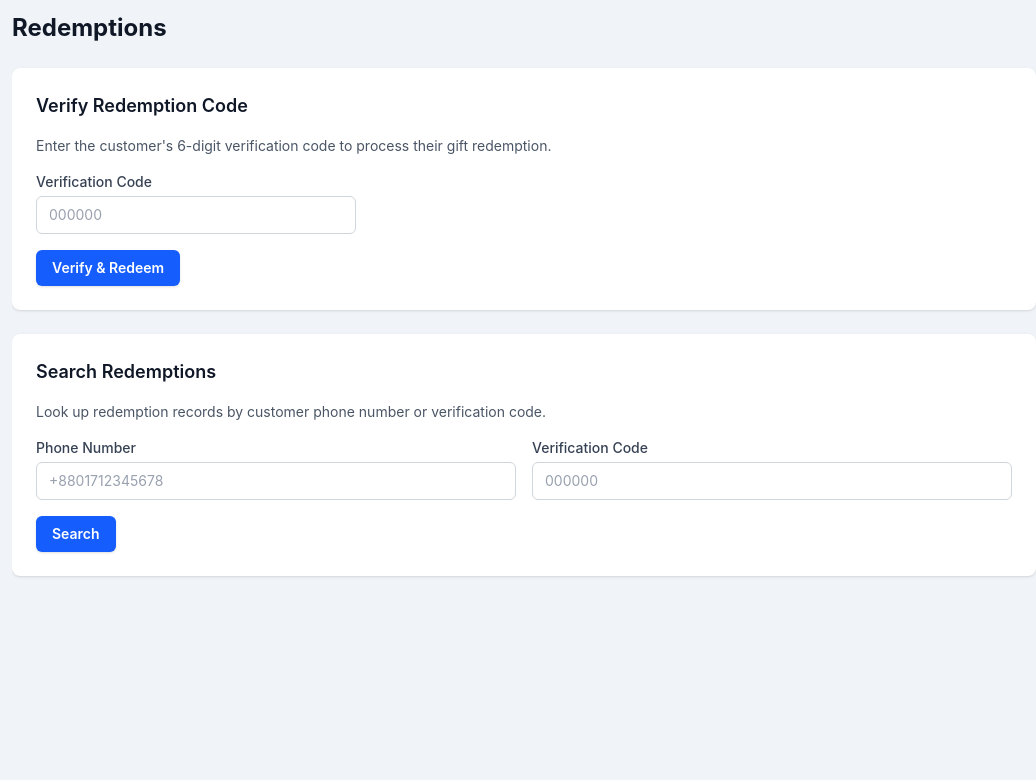
Test: RedemptionsPage › Verification Form › shows error for non-6-digit code
The width and height of the screenshot is (1036, 780).
Type "123" into the field labelled "Verification Code" below "Verify Redemption Code".
click(196, 215); type("123")  # box [36, 196, 356, 234]
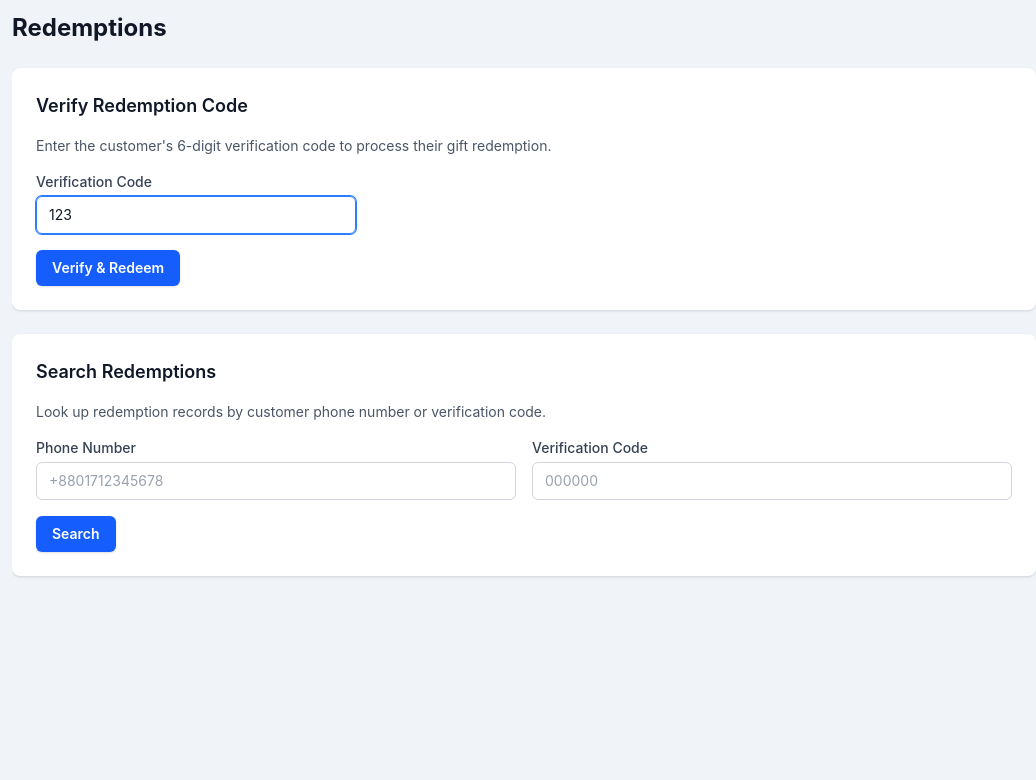
Click the button "Verify & Redeem".
click(108, 268)  # box [36, 250, 180, 286]
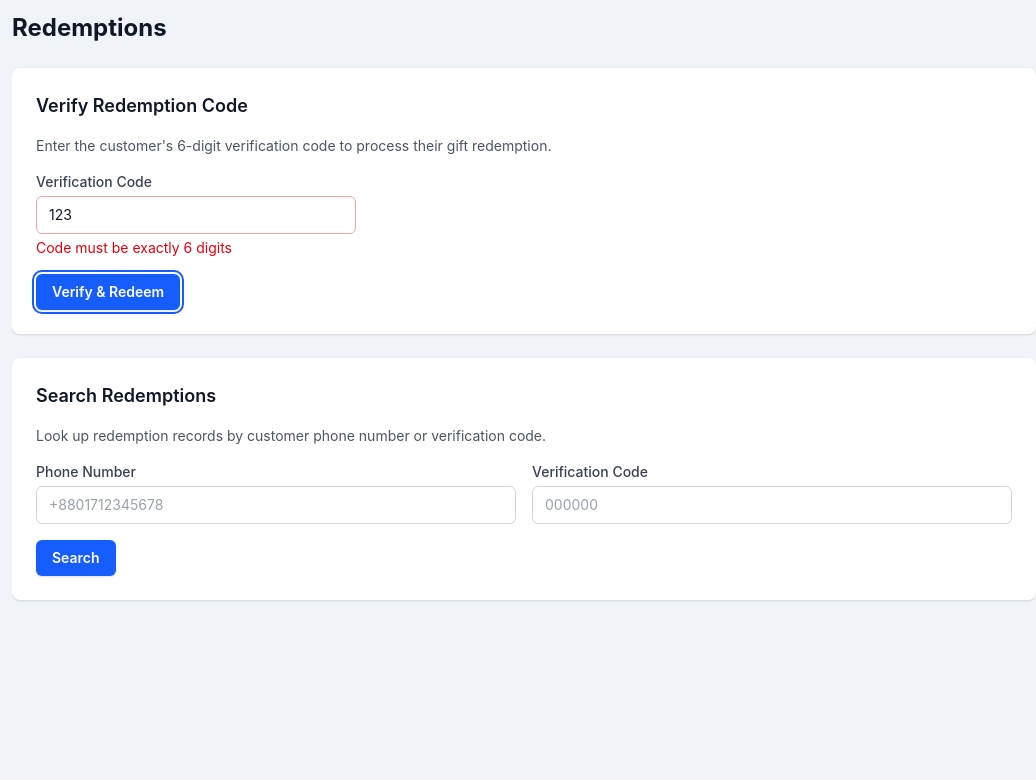
Now the text "Code must be exactly 6 digits" is shown, box [36, 239, 232, 256]
